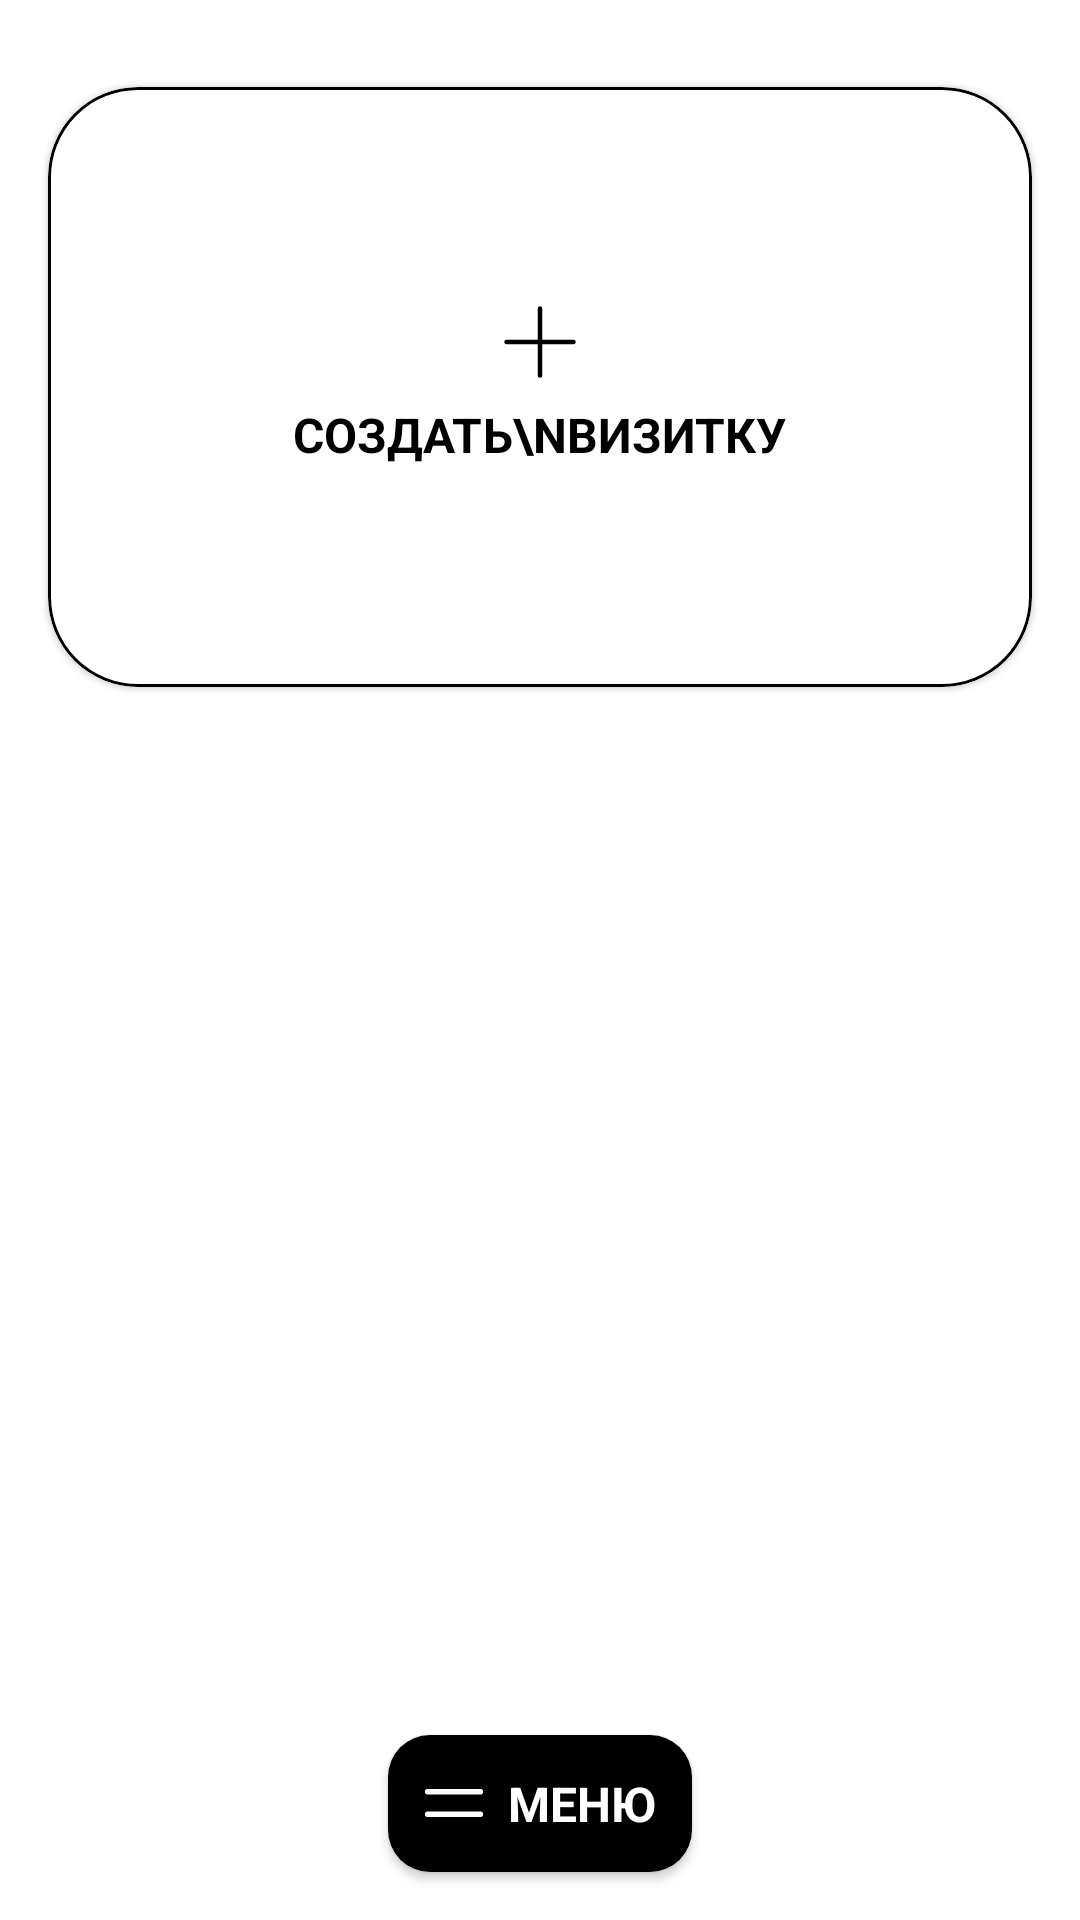

Point at icon controls on the screen. Image size 1080w x 1920h, points as [x,y].
menu: [454,1803]
plus: [540,342]
